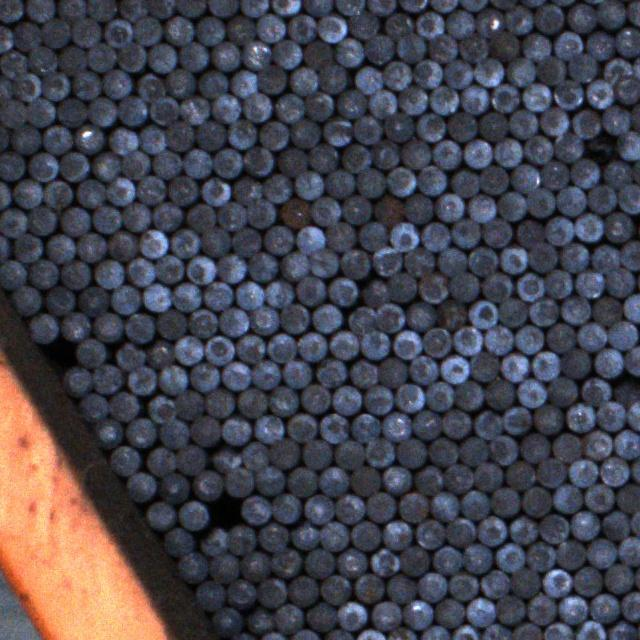tool: (233, 596, 286, 640), (338, 346, 386, 394), (300, 493, 335, 526), (352, 572, 386, 605), (238, 493, 272, 526), (284, 412, 318, 445), (417, 270, 450, 303), (287, 574, 319, 608), (386, 572, 418, 606), (463, 542, 495, 576), (395, 491, 429, 523), (333, 437, 365, 471), (394, 437, 428, 469), (518, 431, 552, 463), (176, 443, 207, 478), (588, 592, 621, 624), (105, 230, 138, 262), (54, 95, 87, 127), (161, 14, 194, 46), (447, 569, 479, 602), (238, 549, 270, 582), (413, 518, 446, 550), (569, 509, 601, 542), (317, 465, 350, 497), (412, 463, 444, 496), (498, 350, 531, 382), (450, 324, 483, 356), (302, 548, 336, 579), (400, 544, 431, 578), (108, 444, 140, 476), (44, 283, 76, 315), (89, 149, 121, 181), (429, 490, 461, 522), (552, 482, 584, 514), (254, 465, 286, 497), (317, 412, 349, 444), (380, 411, 412, 443), (314, 356, 346, 388), (326, 276, 358, 308), (372, 192, 404, 224), (124, 470, 157, 501), (198, 226, 231, 257), (417, 570, 448, 603), (336, 547, 369, 578), (475, 515, 508, 546), (460, 489, 491, 522), (300, 439, 333, 470), (437, 352, 470, 383), (603, 267, 636, 298), (602, 211, 635, 242), (320, 115, 353, 146), (106, 390, 140, 420), (290, 518, 320, 552), (458, 434, 488, 468), (92, 362, 123, 394), (125, 364, 156, 396), (78, 284, 110, 315), (28, 257, 59, 289), (573, 565, 604, 597), (256, 521, 288, 552), (381, 518, 412, 550), (364, 491, 395, 523), (286, 466, 317, 498), (348, 464, 380, 495), (380, 465, 412, 496), (598, 456, 630, 487), (269, 437, 300, 469), (532, 403, 564, 434), (236, 387, 268, 418), (331, 383, 362, 415), (394, 382, 426, 413), (484, 378, 516, 409), (280, 358, 312, 389), (377, 356, 408, 388), (404, 299, 436, 330), (244, 198, 276, 229), (553, 131, 584, 163), (509, 108, 540, 140), (584, 30, 616, 61), (346, 9, 378, 40), (145, 444, 175, 477), (123, 313, 156, 343), (39, 179, 72, 209), (200, 175, 230, 208), (319, 575, 352, 605), (540, 568, 573, 598), (586, 536, 616, 569), (446, 515, 476, 548), (535, 458, 568, 488), (300, 382, 330, 415), (454, 379, 484, 412), (580, 376, 613, 406), (605, 320, 638, 350), (402, 246, 435, 276), (261, 172, 294, 202), (386, 165, 416, 198), (445, 111, 478, 141), (8, 285, 42, 314), (194, 579, 225, 610), (190, 415, 221, 446), (125, 256, 156, 287), (72, 123, 103, 154), (320, 520, 351, 551), (521, 487, 552, 518), (504, 460, 535, 491), (582, 428, 613, 459), (250, 360, 281, 391), (234, 333, 265, 364), (560, 294, 591, 325), (370, 245, 401, 276), (528, 241, 559, 272), (556, 183, 587, 214), (230, 174, 261, 205), (442, 58, 473, 89), (178, 550, 208, 582), (193, 469, 225, 499), (220, 415, 252, 445), (59, 310, 91, 340), (166, 228, 198, 258), (26, 45, 58, 75), (270, 548, 302, 578), (524, 542, 556, 572), (564, 402, 596, 432), (425, 380, 455, 412), (531, 349, 561, 381), (594, 346, 624, 378), (264, 332, 296, 362), (591, 294, 623, 324), (480, 272, 512, 302), (246, 252, 278, 282), (419, 221, 451, 251), (586, 182, 616, 214), (354, 167, 386, 197), (242, 146, 274, 176), (307, 143, 339, 173), (339, 143, 371, 173), (384, 111, 414, 143), (572, 106, 602, 138), (488, 30, 520, 60), (552, 27, 582, 59), (110, 281, 139, 314), (9, 124, 42, 153), (252, 414, 285, 443), (446, 168, 479, 197), (272, 92, 305, 121), (488, 83, 521, 112), (202, 387, 236, 415), (9, 234, 43, 262), (305, 600, 336, 630), (337, 600, 368, 630), (226, 578, 256, 609), (210, 441, 240, 472), (159, 419, 189, 450), (92, 417, 123, 447), (61, 366, 92, 396), (74, 338, 105, 368), (120, 202, 151, 232), (211, 146, 241, 177), (146, 42, 177, 72), (11, 20, 42, 50), (479, 569, 510, 599), (369, 547, 400, 577), (432, 545, 463, 575), (494, 542, 525, 572), (351, 519, 381, 550), (508, 515, 539, 545), (585, 482, 616, 512), (240, 440, 270, 471), (488, 434, 518, 465), (552, 432, 583, 462), (268, 385, 298, 416), (363, 383, 393, 414), (516, 378, 547, 408), (547, 376, 578, 406), (561, 348, 592, 378), (328, 330, 359, 360), (247, 305, 277, 336), (280, 303, 310, 334), (435, 298, 466, 328), (467, 299, 498, 329), (497, 297, 528, 327), (294, 276, 325, 306), (338, 249, 369, 279), (558, 242, 588, 273), (263, 224, 294, 254), (358, 220, 388, 251), (340, 194, 371, 224), (510, 162, 541, 192), (275, 146, 306, 176), (492, 136, 523, 166), (241, 92, 271, 123), (336, 88, 367, 118), (459, 83, 489, 114), (553, 79, 584, 109), (382, 60, 412, 91), (503, 56, 534, 86), (271, 39, 302, 69), (364, 34, 395, 64), (255, 13, 286, 43), (444, 8, 475, 38), (475, 7, 505, 38), (533, 4, 564, 34), (566, 2, 596, 33), (210, 606, 242, 635), (216, 307, 248, 336), (43, 234, 75, 263), (0, 206, 29, 238), (58, 207, 90, 236), (166, 174, 198, 203), (195, 14, 224, 46), (272, 492, 301, 524), (491, 486, 520, 518), (597, 400, 626, 432), (298, 331, 327, 363), (544, 323, 576, 352), (528, 297, 560, 326), (278, 197, 310, 226), (522, 135, 554, 164), (228, 118, 257, 150), (257, 63, 286, 95), (472, 57, 504, 86), (535, 55, 567, 84), (369, 602, 402, 630), (29, 310, 57, 343), (466, 596, 496, 626), (526, 594, 556, 624), (224, 467, 254, 497), (114, 340, 144, 370), (144, 338, 174, 368), (202, 280, 232, 310), (42, 124, 72, 154), (165, 120, 195, 150), (198, 67, 228, 97), (116, 42, 146, 72), (132, 15, 162, 45), (604, 564, 634, 594), (428, 437, 458, 467), (350, 413, 380, 443), (412, 410, 442, 440), (440, 408, 470, 438), (408, 354, 438, 384), (484, 324, 514, 354), (346, 304, 376, 334), (450, 272, 480, 302), (468, 246, 498, 276), (498, 244, 528, 274), (295, 225, 325, 255), (324, 168, 354, 198), (570, 158, 600, 188), (400, 138, 430, 168), (431, 138, 461, 168), (290, 117, 320, 147), (540, 105, 570, 135), (240, 40, 270, 70), (396, 33, 426, 63), (225, 14, 255, 44), (316, 13, 346, 43), (434, 597, 465, 626), (125, 418, 156, 447), (156, 309, 187, 338), (60, 259, 91, 288), (148, 95, 177, 126), (85, 41, 116, 70), (258, 577, 287, 608), (472, 462, 503, 491), (365, 438, 394, 469), (472, 409, 503, 438), (392, 328, 421, 359), (577, 321, 606, 352), (514, 271, 545, 300), (434, 193, 465, 222), (417, 165, 446, 196), (461, 138, 492, 167), (258, 120, 289, 149), (521, 82, 552, 111), (412, 59, 443, 88), (520, 31, 551, 60), (199, 523, 227, 555), (177, 500, 209, 528), (94, 310, 122, 342), (361, 328, 389, 360), (376, 302, 404, 334), (514, 218, 546, 246), (586, 77, 614, 109), (402, 598, 431, 628), (557, 595, 587, 624), (171, 282, 200, 312), (94, 259, 124, 288), (186, 254, 215, 284), (216, 252, 245, 282), (75, 178, 105, 207), (135, 175, 165, 204), (178, 94, 208, 123), (556, 540, 586, 569), (539, 514, 569, 543), (568, 459, 598, 488), (503, 405, 532, 435), (470, 351, 499, 381), (263, 278, 292, 308), (388, 272, 417, 302), (326, 223, 356, 252), (389, 221, 419, 250), (404, 193, 433, 223), (526, 187, 556, 216), (480, 164, 509, 194), (368, 89, 398, 118), (354, 64, 383, 94), (596, 0, 626, 29), (163, 527, 194, 555), (150, 202, 181, 230), (105, 175, 133, 206), (138, 121, 166, 152), (86, 98, 117, 126), (101, 18, 132, 46), (510, 568, 541, 596), (336, 494, 364, 525), (444, 463, 472, 494), (422, 327, 450, 358), (544, 268, 572, 299), (436, 247, 467, 275), (545, 214, 573, 245), (601, 159, 632, 187), (415, 113, 446, 141), (478, 112, 509, 140), (383, 12, 414, 40), (588, 243, 620, 270), (147, 393, 176, 422), (174, 389, 203, 418), (220, 360, 249, 389), (204, 334, 233, 363), (216, 201, 245, 230), (197, 119, 226, 148), (26, 98, 55, 127), (210, 93, 239, 122), (101, 68, 130, 97), (136, 72, 165, 101), (57, 44, 86, 73), (611, 381, 640, 410), (311, 303, 340, 332), (573, 212, 602, 241), (498, 191, 527, 220), (306, 91, 335, 120), (399, 86, 428, 115), (496, 594, 524, 624), (158, 473, 188, 501), (158, 364, 188, 392), (76, 232, 104, 262), (182, 148, 210, 178), (107, 125, 137, 153), (11, 72, 41, 100), (41, 71, 71, 99), (178, 42, 208, 70), (210, 42, 240, 70), (42, 17, 70, 47), (602, 510, 630, 540), (514, 324, 542, 354), (279, 250, 307, 280), (232, 226, 260, 256), (482, 218, 512, 246), (228, 67, 256, 97), (568, 52, 596, 82), (334, 38, 364, 66), (426, 34, 456, 62), (414, 10, 444, 38), (57, 153, 88, 180), (458, 33, 489, 60), (274, 604, 303, 632), (209, 553, 238, 581), (190, 361, 219, 389), (28, 206, 56, 235), (92, 205, 121, 233), (11, 179, 40, 207), (121, 150, 150, 178), (118, 95, 146, 124), (72, 70, 100, 99), (360, 278, 388, 307), (574, 270, 603, 298), (452, 219, 481, 247), (467, 194, 496, 222), (294, 170, 323, 198), (370, 140, 399, 168), (353, 114, 382, 142), (602, 105, 630, 134), (429, 86, 458, 114), (288, 66, 316, 95), (301, 38, 330, 66), (228, 524, 255, 554), (173, 336, 203, 363), (140, 282, 170, 309), (0, 258, 27, 288), (0, 97, 27, 127), (613, 428, 640, 458), (310, 197, 340, 224), (505, 4, 532, 34), (146, 500, 174, 528), (79, 391, 107, 419), (138, 228, 166, 256), (28, 152, 56, 180), (72, 18, 100, 46), (541, 160, 569, 188), (317, 65, 345, 93), (155, 255, 184, 282), (167, 68, 194, 97), (308, 249, 337, 276), (286, 15, 315, 42), (189, 308, 215, 338), (616, 482, 640, 514), (235, 279, 262, 307), (602, 56, 631, 82), (616, 535, 640, 566), (616, 25, 640, 56), (187, 203, 214, 230), (0, 150, 26, 178), (152, 149, 180, 175), (0, 49, 26, 77), (614, 75, 640, 103), (605, 618, 638, 640), (617, 183, 640, 213), (617, 130, 640, 160), (22, 0, 54, 21), (575, 619, 605, 640), (619, 240, 640, 270), (620, 590, 640, 621), (54, 0, 84, 20), (116, 0, 146, 20), (86, 0, 115, 20), (542, 622, 574, 640), (206, 0, 238, 18), (302, 0, 334, 17), (512, 622, 542, 640), (452, 623, 482, 640), (623, 293, 640, 323), (270, 0, 300, 17), (365, 0, 396, 16), (482, 623, 511, 640), (421, 624, 451, 640), (176, 0, 206, 16), (240, 0, 270, 16), (146, 0, 174, 17), (626, 399, 640, 433), (625, 345, 640, 376), (0, 0, 22, 21), (388, 626, 418, 640), (336, 0, 364, 15), (398, 0, 428, 12), (0, 73, 12, 102), (430, 0, 458, 12), (0, 23, 11, 50)
tool_b: (584, 133, 618, 163)
void: (199, 487, 252, 538), (39, 336, 72, 369)
